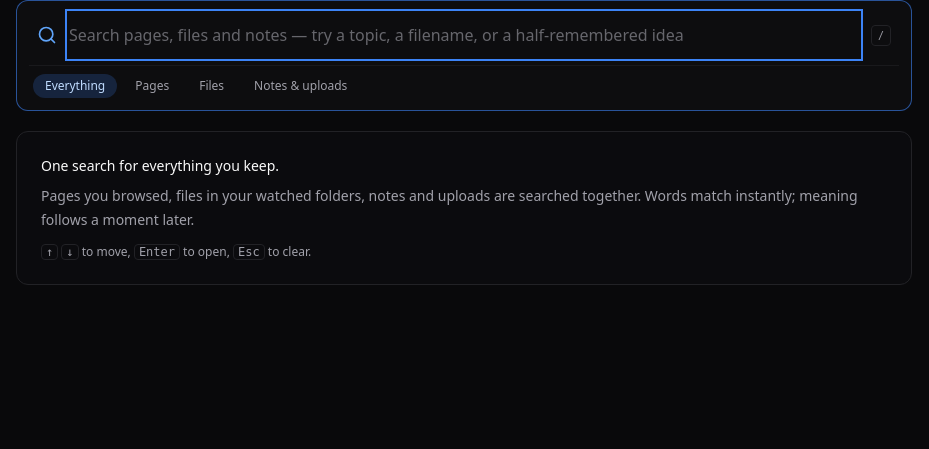
Test: unified search page › shows pages and files together with matched words highlighted
The image size is (929, 449).
Replace the text in the field named "Search your pages" with "cedar": (464, 35) [69,13,859,57]
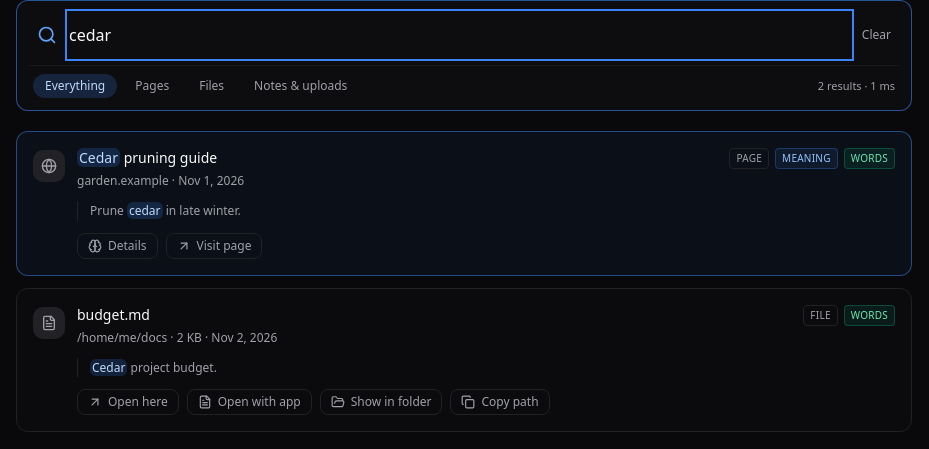
Now the button "budget.md" is shown, box [77,304,150,324]
Now the text "Cedar" in the row of "Meaning" is shown, box [77,148,120,167]
Now the text "/home/me/docs · 2 KB · Nov 2, 2026" is shown, box [77,328,277,346]
